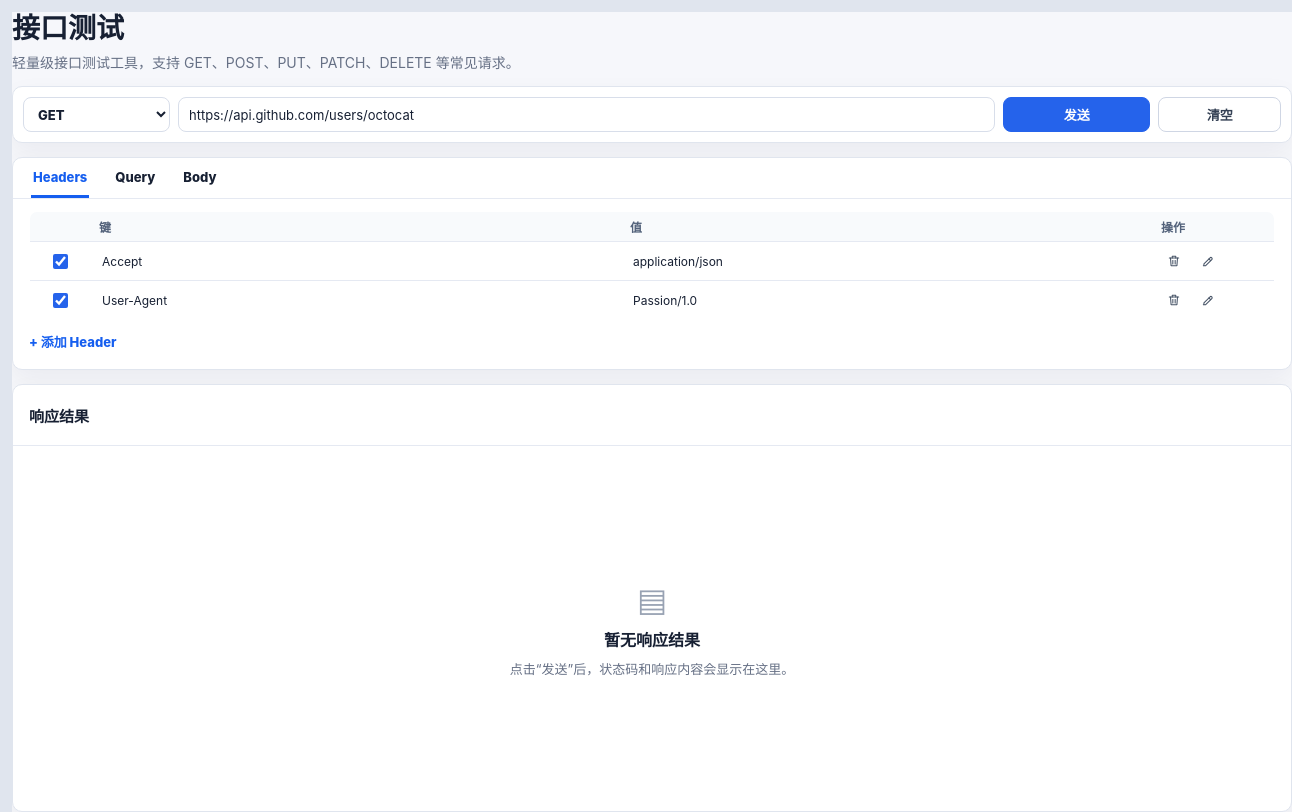
Test: shows when the response body was truncated
Click the button "发送" at (1077, 115), box [1003,97,1150,132]
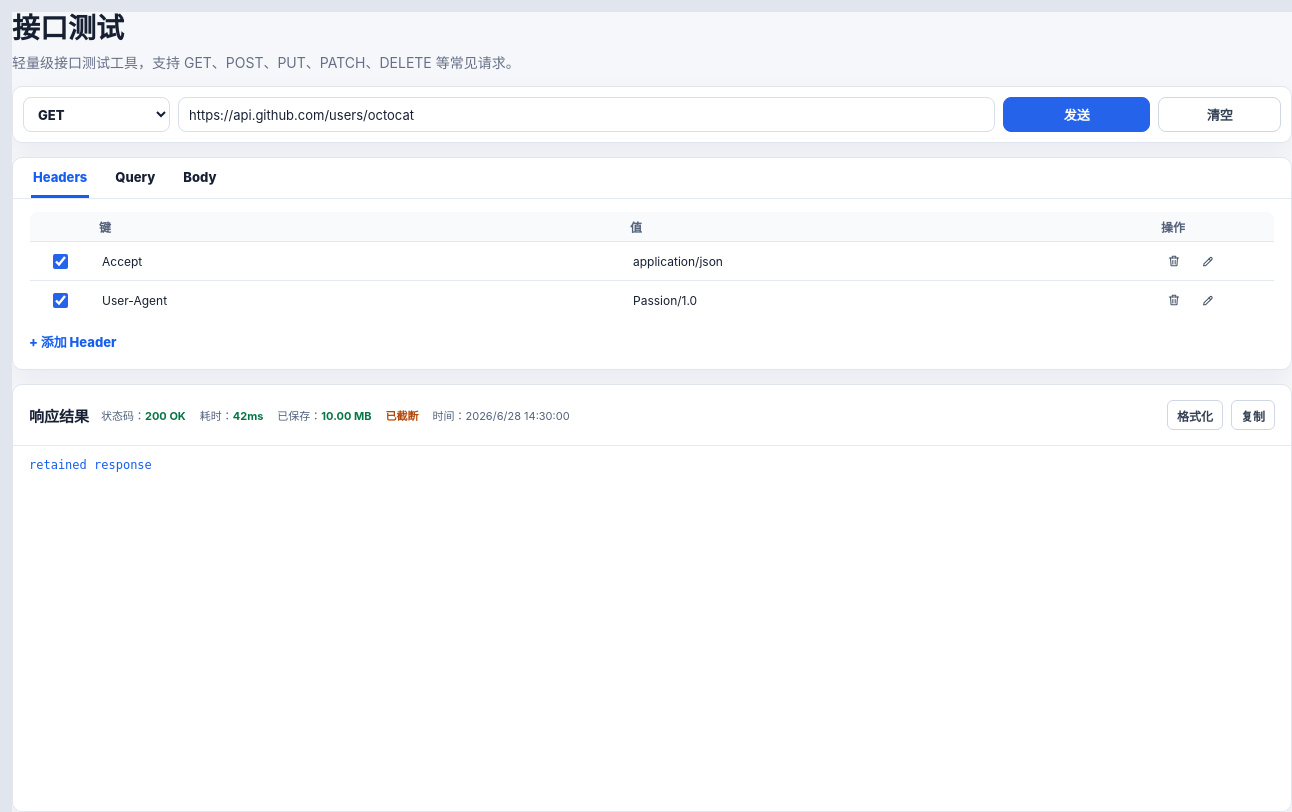
Result: the text "已保存：" is shown at [277,407,372,423]
Result: the text "已截断" is shown at [386,407,418,423]
